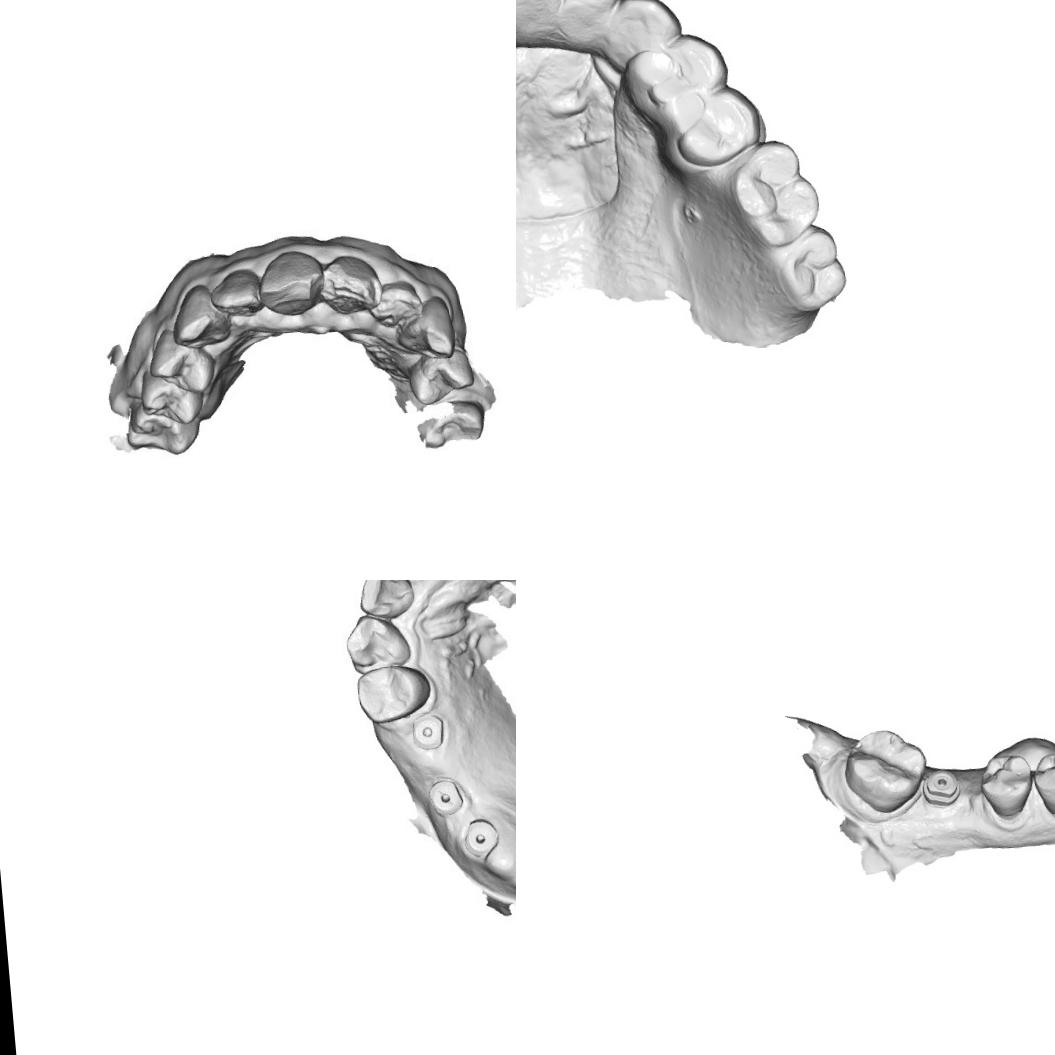canine: (340, 610, 416, 674), (606, 0, 685, 53), (168, 280, 224, 345), (405, 300, 459, 362)
implant: (918, 764, 964, 810), (462, 814, 504, 864), (411, 709, 448, 751)
implant_minus: (422, 774, 472, 822)
incisor: (324, 250, 382, 318), (261, 249, 320, 312), (379, 276, 425, 336), (214, 266, 266, 318), (557, 0, 624, 38), (358, 580, 418, 622), (516, 0, 568, 25)
molar: (722, 134, 823, 252), (839, 723, 932, 818), (770, 221, 849, 316)
premolar: (620, 28, 734, 118), (670, 78, 768, 170), (355, 664, 434, 724), (973, 748, 1037, 822), (149, 329, 215, 396), (408, 349, 474, 407), (138, 368, 200, 425), (1027, 746, 1055, 818)
